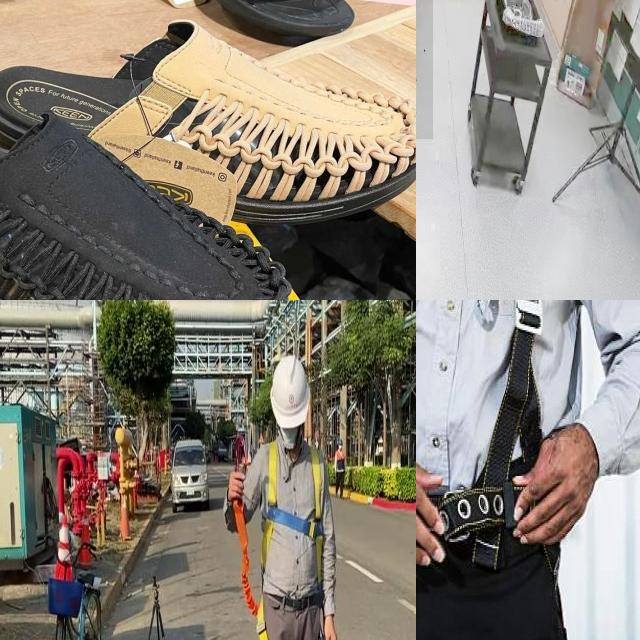Harness: (416, 300, 559, 559), (263, 441, 325, 588), (233, 502, 270, 640)
Sandals: (0, 10, 416, 240), (0, 105, 301, 300)
